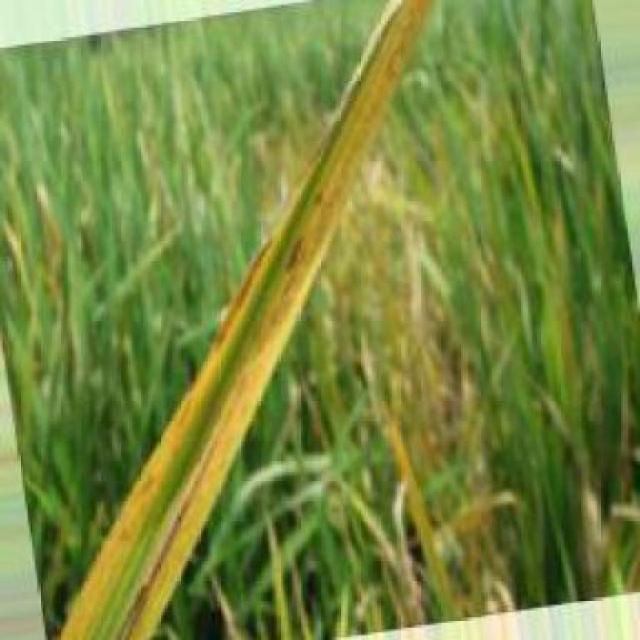Rice Tungro: (65, 2, 432, 633)
